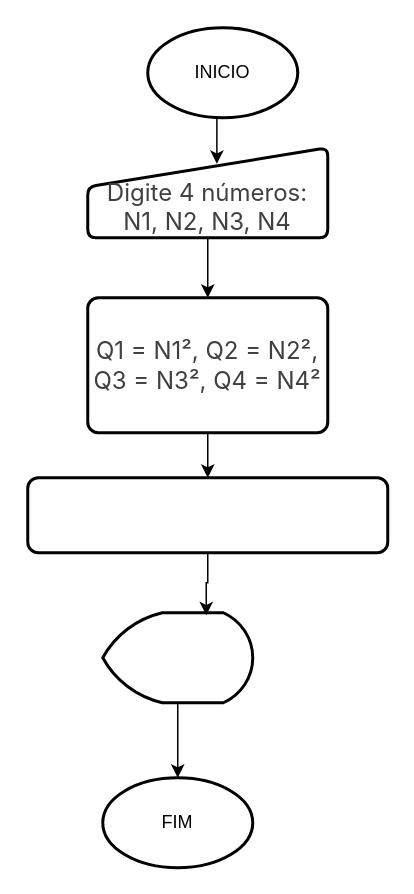
This 414x894 diagram has some shape labels left out. The shapes that lost their labels are listed below. From the top down, each one's centre as x and y in pixels, then its label:
pixel 207 515: RESULTADO = Q1 + Q2 + Q3 + Q4
pixel 177 657: RESULTADO
